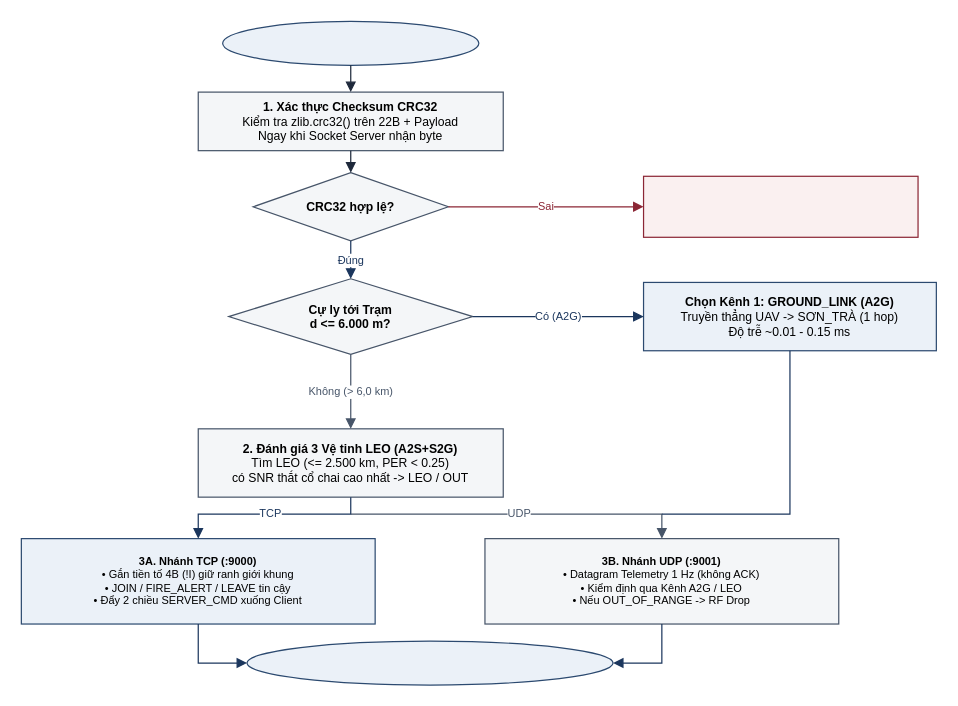
The diagram is 958 pixels wide and 706 high, and some of its shapes have lost their labels. The centre of each missing label's shape, as x and y in pixels:
"Client gửi gói tin 26B + CRC32" belongs at point (350, 42).
"Ghi Packet Sniffer, Mutex RLock & CSV" belongs at point (429, 662).
"Hủy gói (CRC32_ERR) Tăng bộ đếm lỗi CRC32 Ghi nhận lên Packet Sniffer" belongs at point (780, 206).
